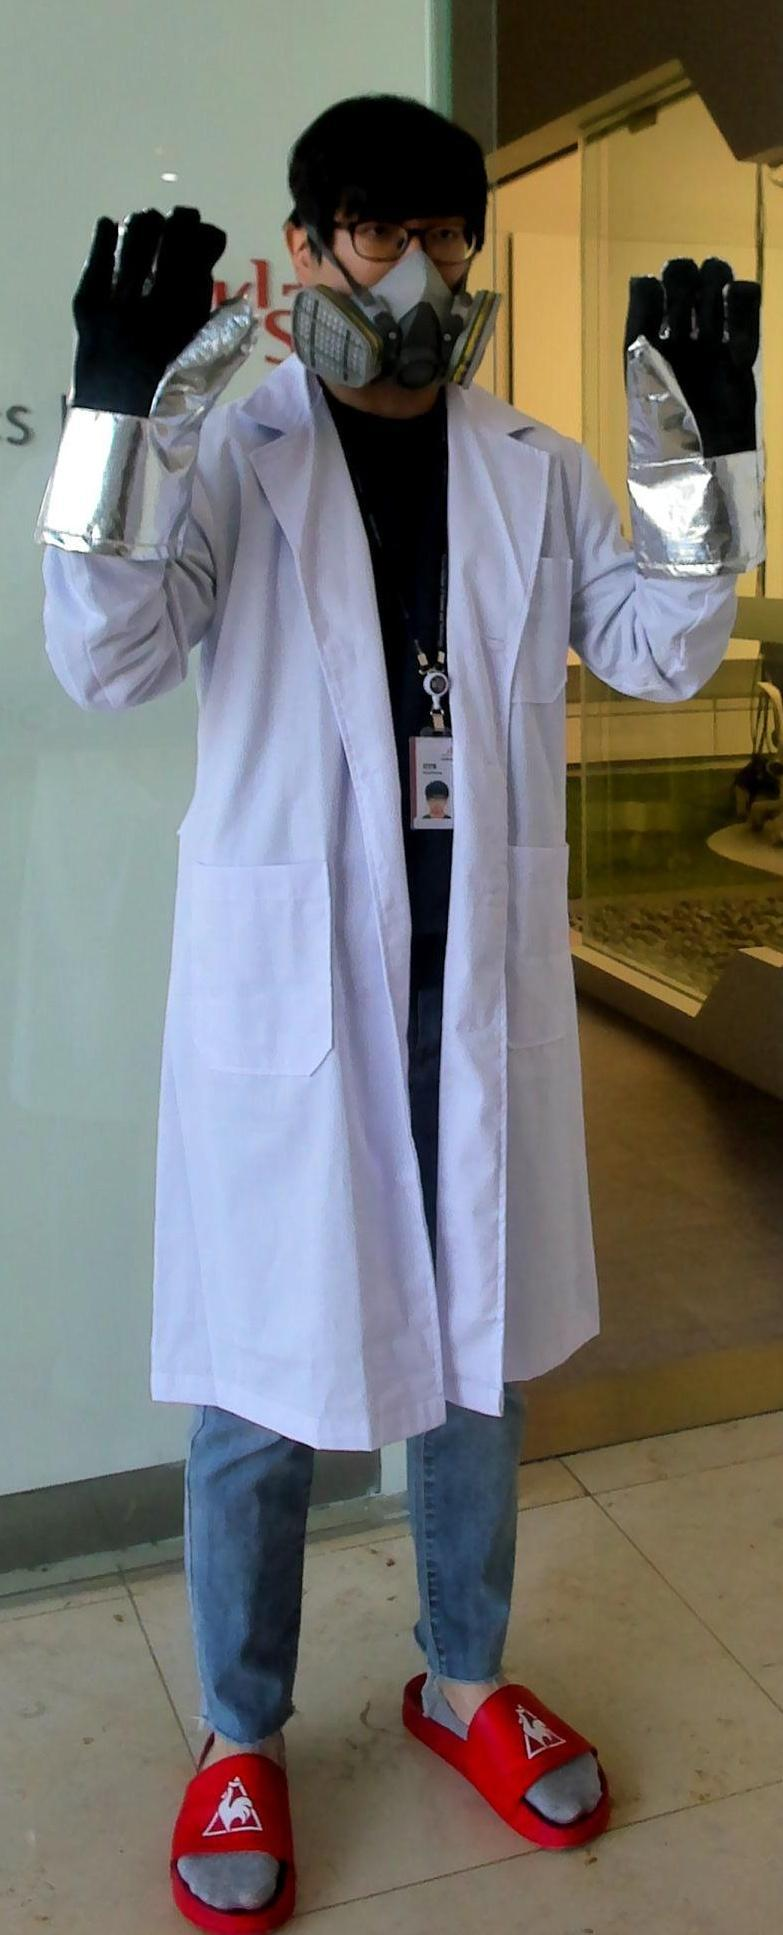lab_coat: (143, 431, 594, 1415)
